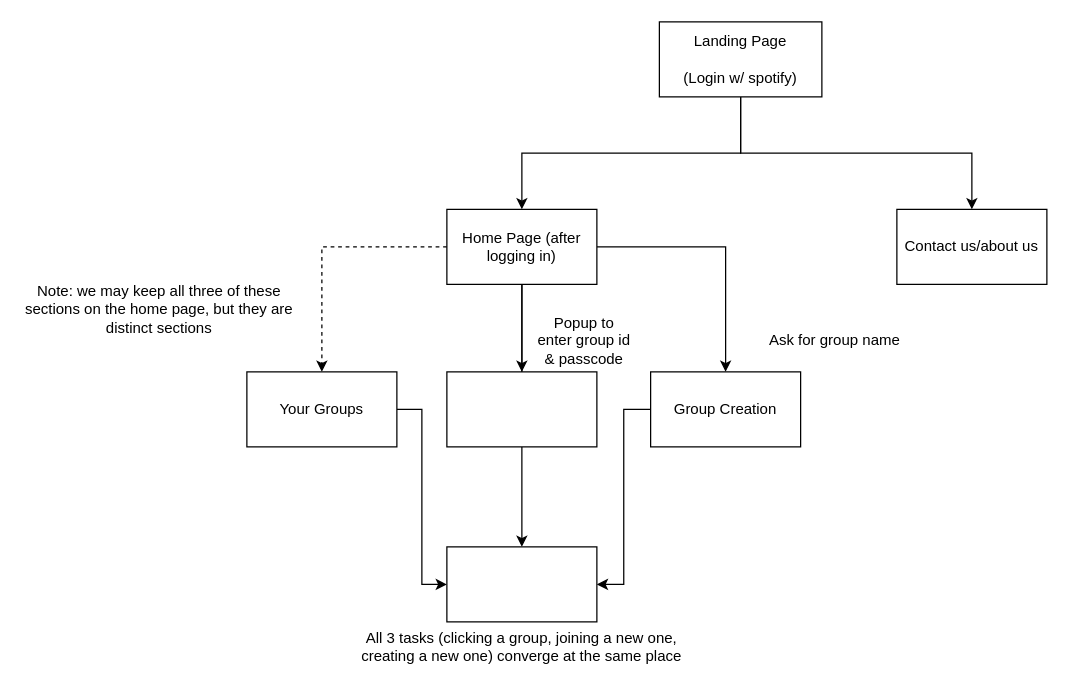
This 1069x686 diagram has some shape labels left out. The centre of each missing label's shape, as x and y in pixels:
Group Joining: the point at 521,409
Group Page: the point at 521,584
